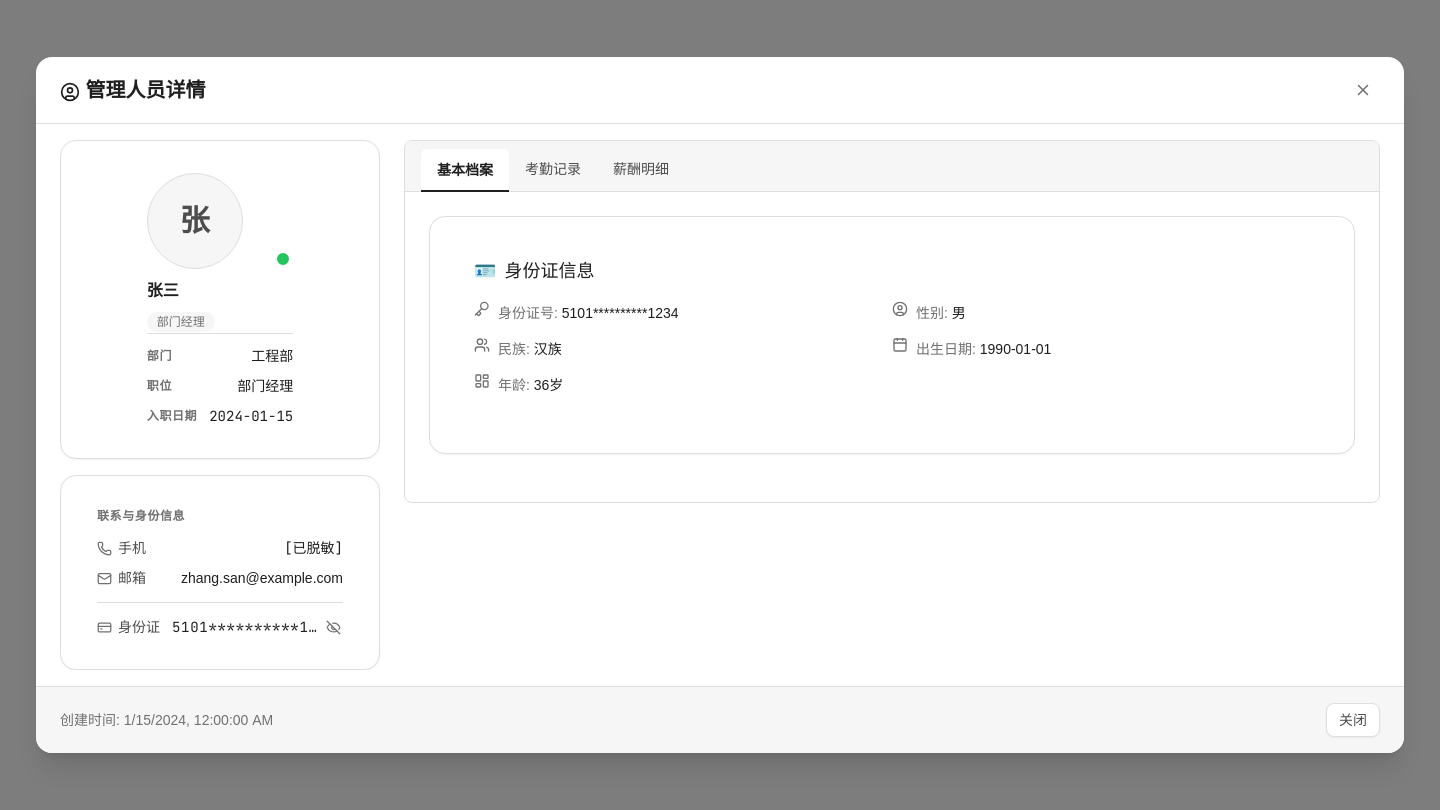
Test: MemberDetail (S23) › 身份证默认脱敏，点击眼睛按钮临时显真
Check: the text "510101199001011234" is not shown
Click the button named "显示身份证号": point(334, 627) [324,618,343,636]
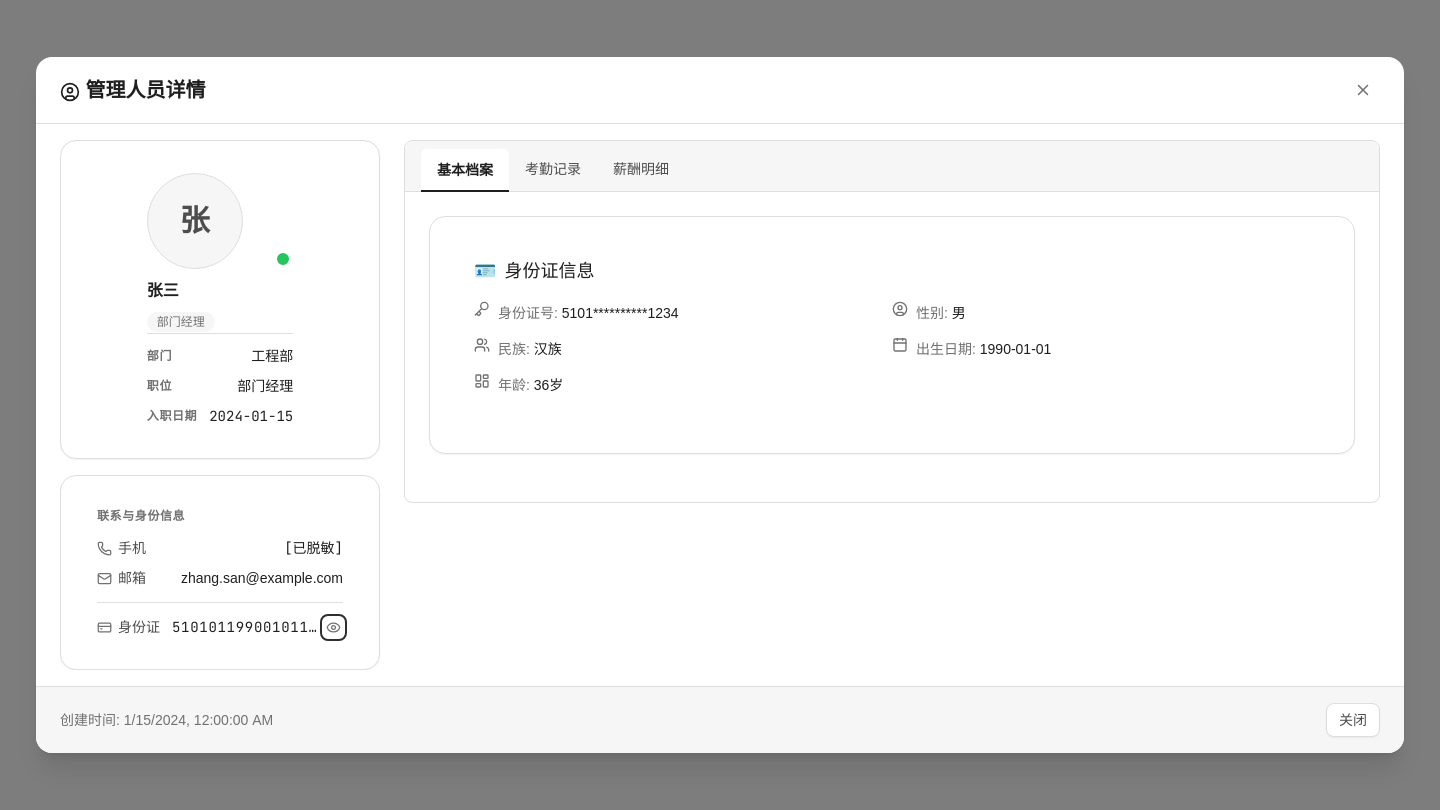
Check: the text "510101199001011234" is shown, box [172,617,318,637]
Click the button named "隐藏身份证号": point(334, 627) [324,618,343,636]
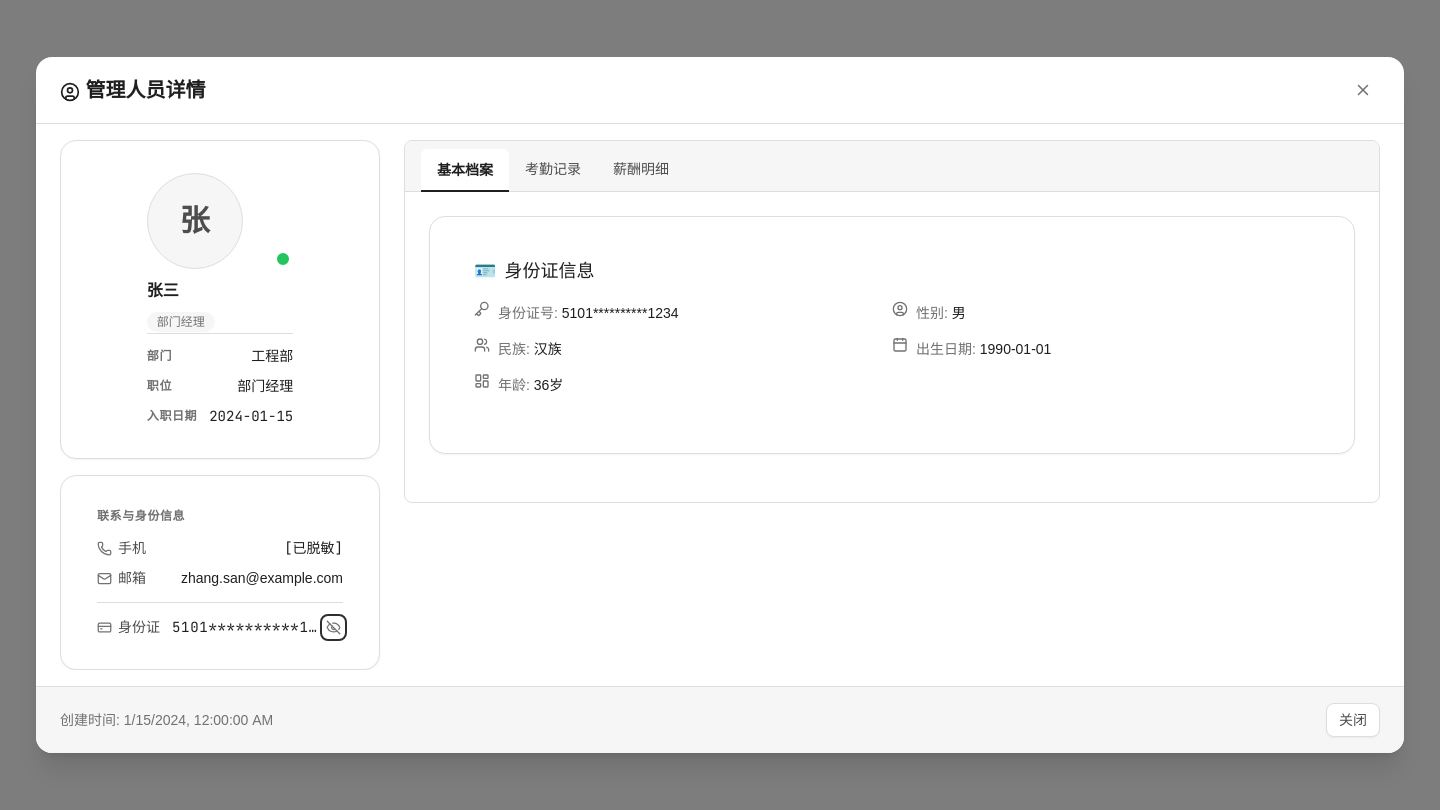
Check: the text "510101199001011234" is gone
